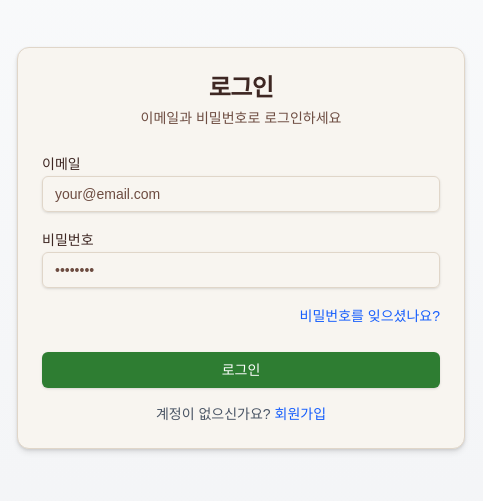
Scenario: LoginPage › 폼 제출 › 로그인 실패 시 에러 메시지가 표시된다
Type "test@example.com" into the field labelled "이메일". click: coordinates (241, 194)
box: [42,176,440,212]
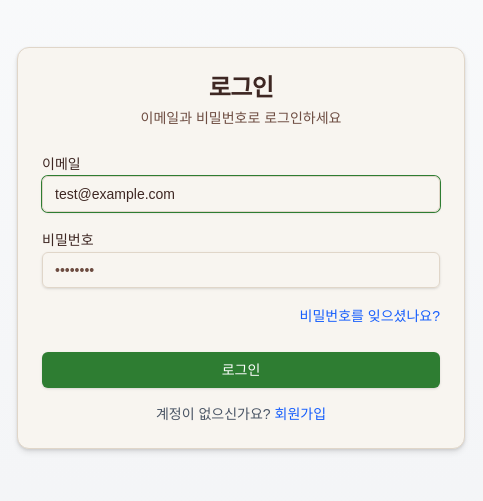
Type "wrongpassword" into the password field labelled "비밀번호". click: coordinates (241, 270)
box: [42,252,440,288]
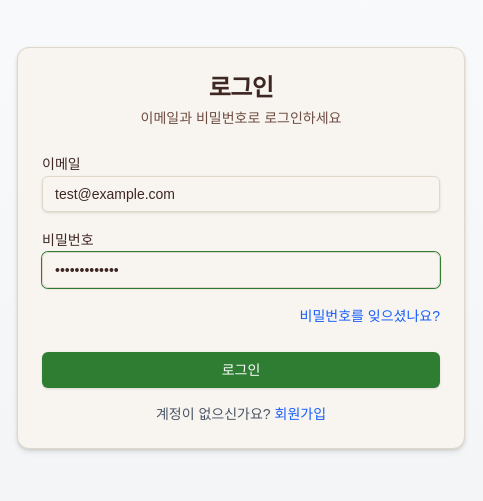
Click the button "로그인". click: coordinates (241, 370)
box: [42,352,440,388]
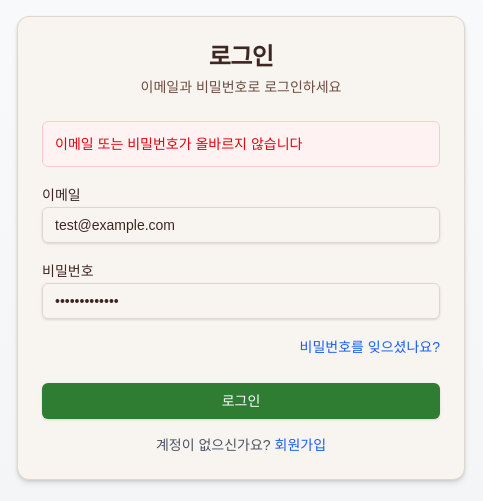
Expected: the text "이메일 또는 비밀번호가 올바르지 않습니다" is shown, [42,121,440,167]
